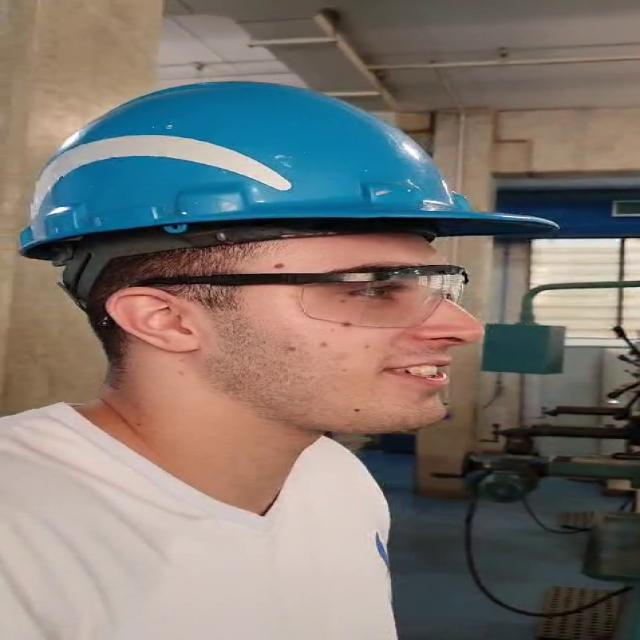oculos-epi: (137, 265, 467, 328)
